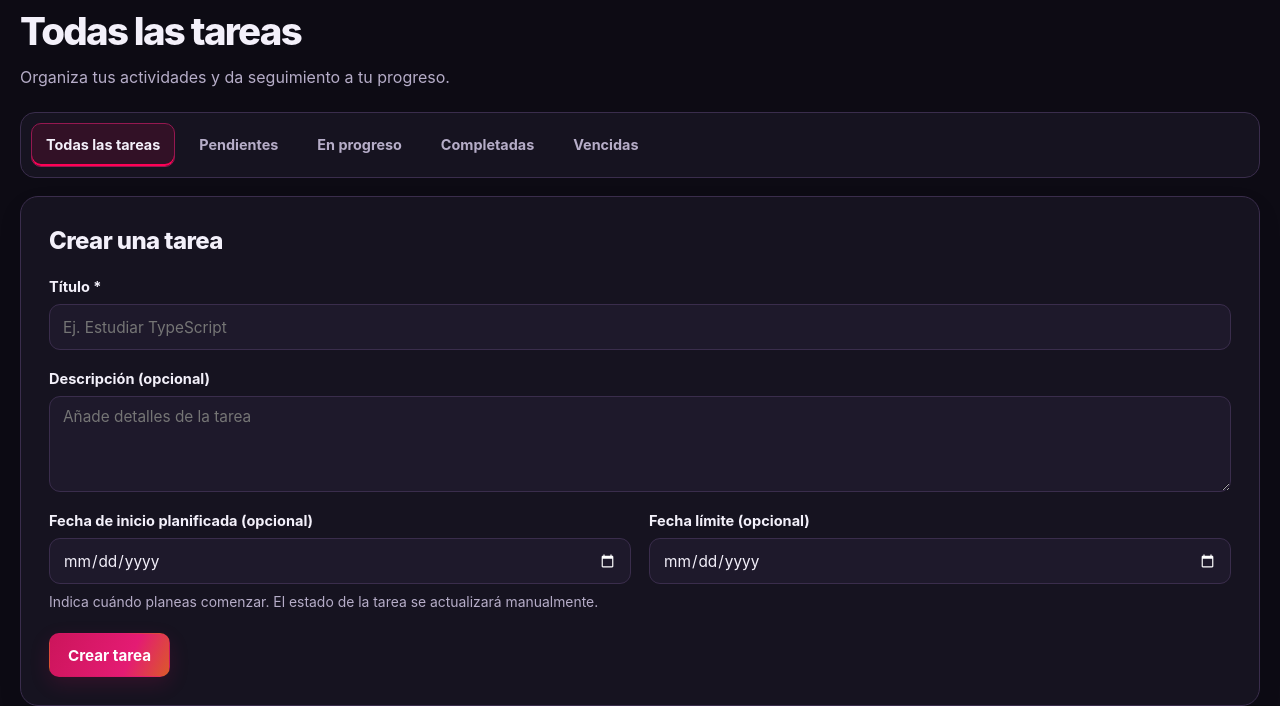
Test case: Interfaz de gestión de tareas › crea una tarea y la muestra en el listado
This screenshot has width=1280, height=706.
Type "Estudiar React" into the field labelled "Título *" at (640, 327), box [49,304,1231,350]
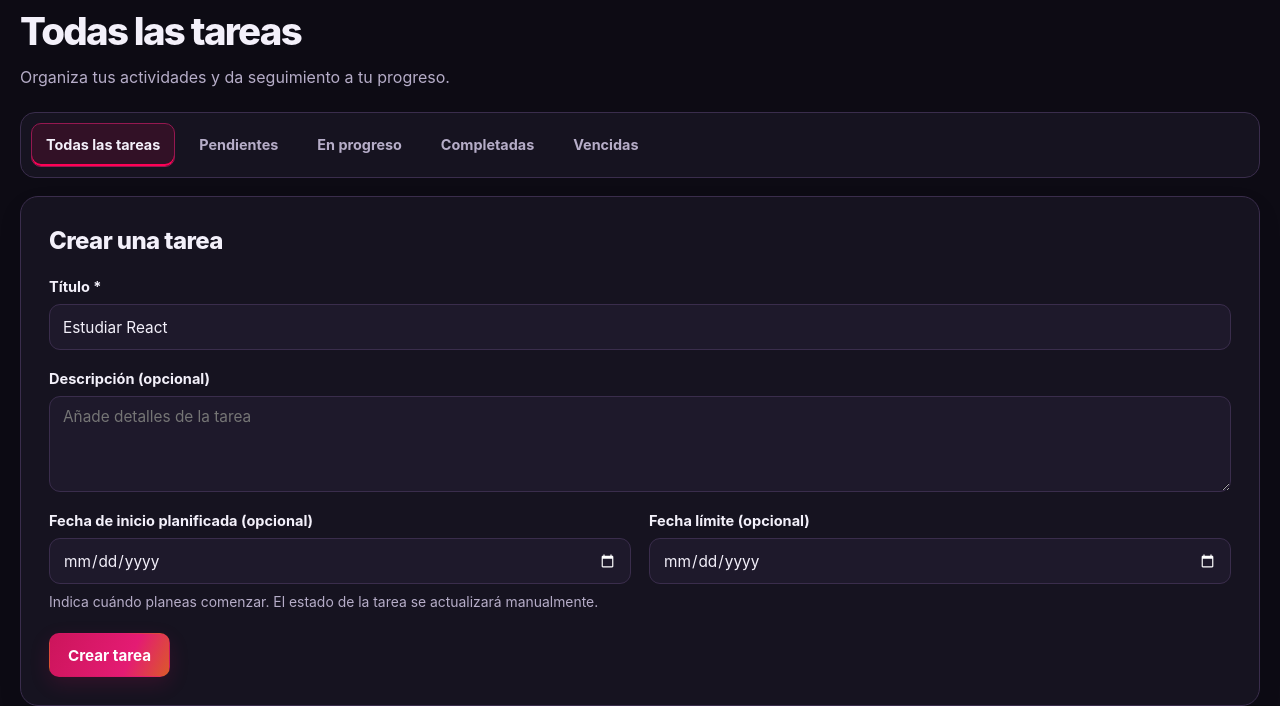
Type "Repasar componentes" into the text box labelled "Descripción (opcional)" at (640, 444), box [49,396,1231,492]
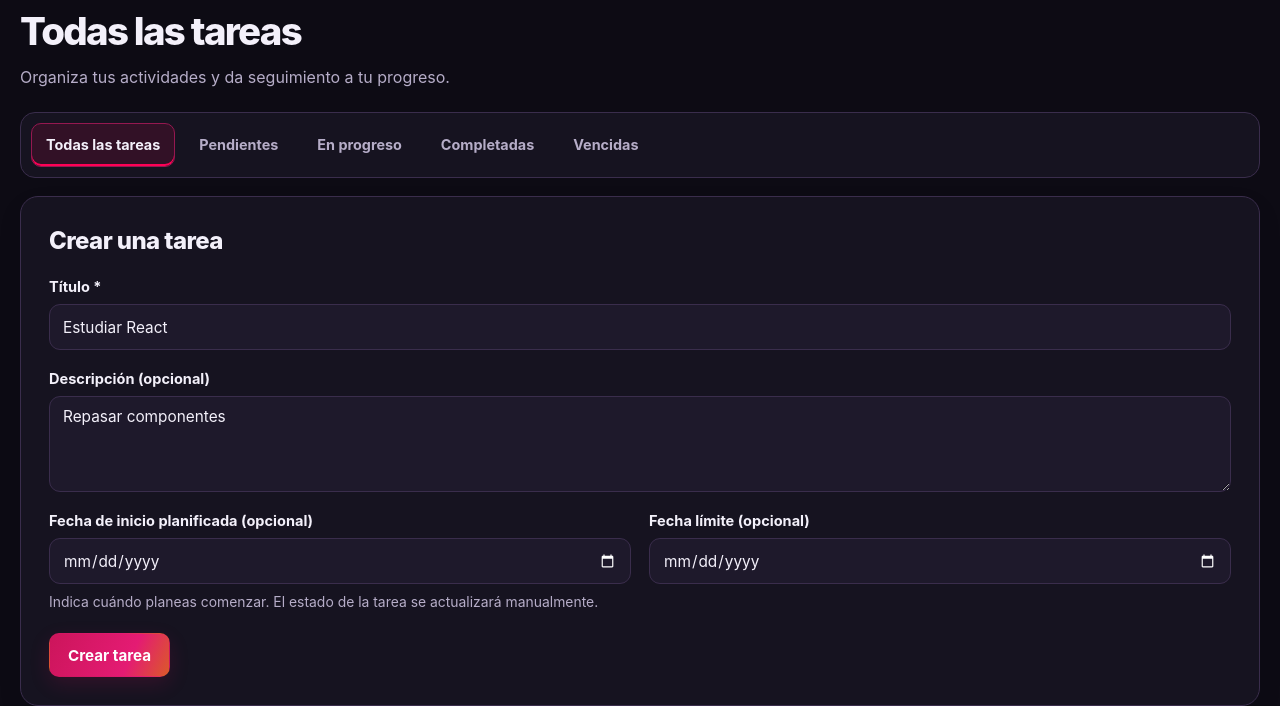
Click the button "Crear tarea" at (110, 655), box [49,633,170,677]
(page scrolled)
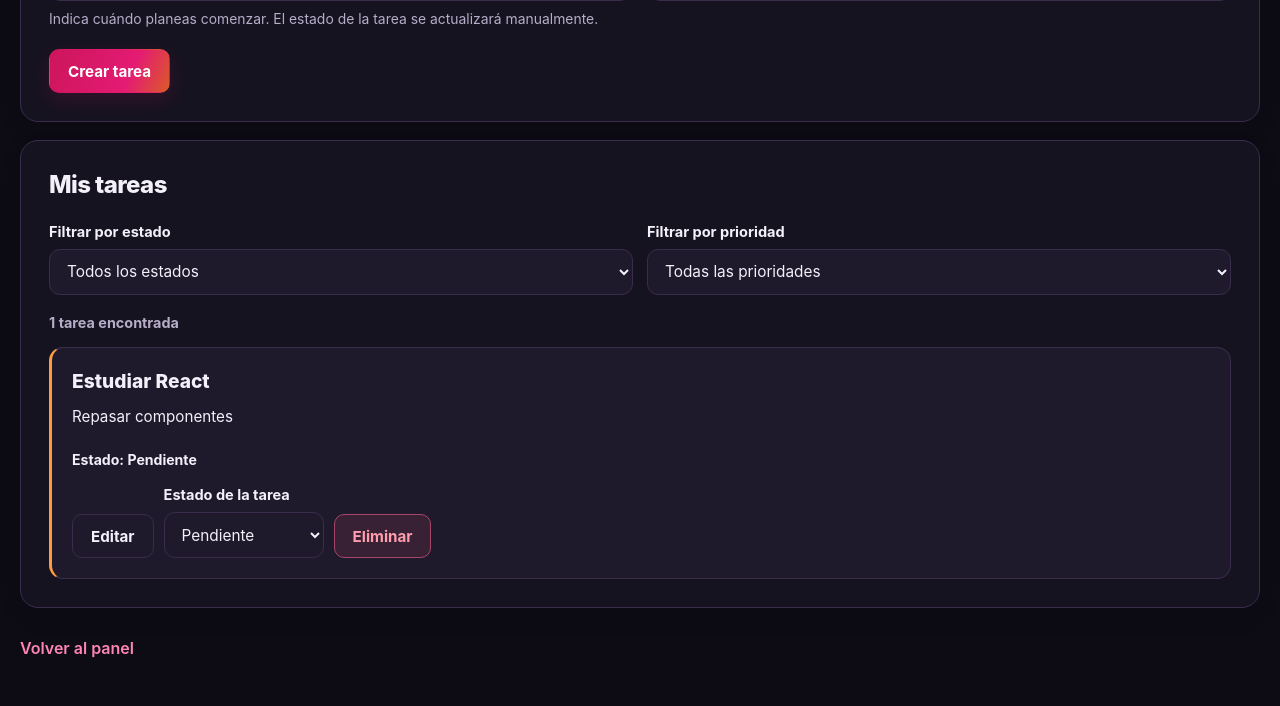
Result: the heading "Estudiar React" is shown at [72,368,210,395]
Result: the text "Repasar componentes" is shown at [72,407,233,426]
